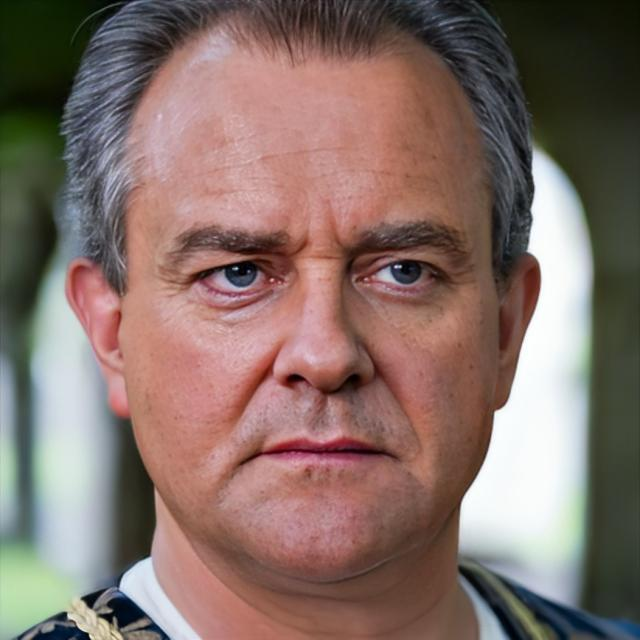anger: (118, 38, 500, 580)
